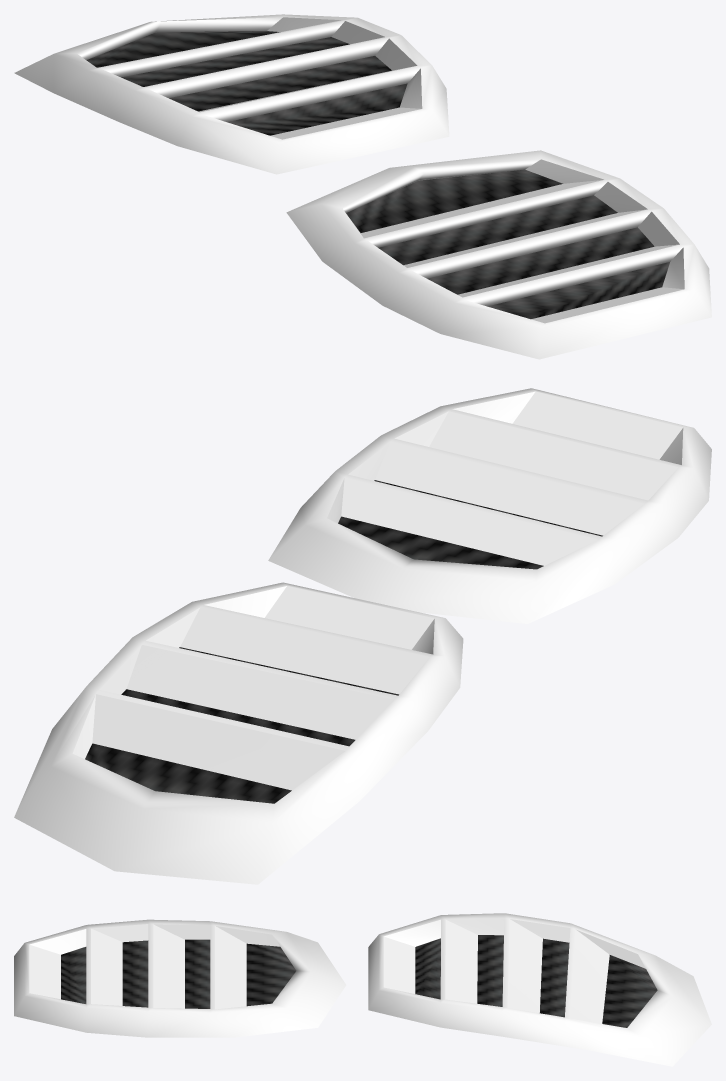
The model's file is bntr_b_ov.glb.
The picture shows the model from 3 angles, top to bottom: view 1: azimuth 30°, elevation 25°; view 2: azimuth 150°, elevation 25°; view 3: azimuth 270°, elevation 25°; orthographic projection. The views are drawn at different scales.
Parts seen in each view (by area): view 1: bntr_b_ov, bntr_b_ov_dam; view 2: bntr_b_ov_dam, bntr_b_ov; view 3: bntr_b_ov_dam, bntr_b_ov.
Boxes of the visible parts, x1,y1,x2,y2 form: bntr_b_ov: [286, 150, 711, 359]; bntr_b_ov_dam: [14, 14, 449, 174]; bntr_b_ov_dam: [14, 582, 463, 884]; bntr_b_ov: [268, 388, 711, 623]; bntr_b_ov_dam: [368, 913, 711, 1066]; bntr_b_ov: [14, 919, 346, 1037].
Size of the model in its own units: 0.3874 by 0.1119 by 1.06.
2 materials, 2 textured.
